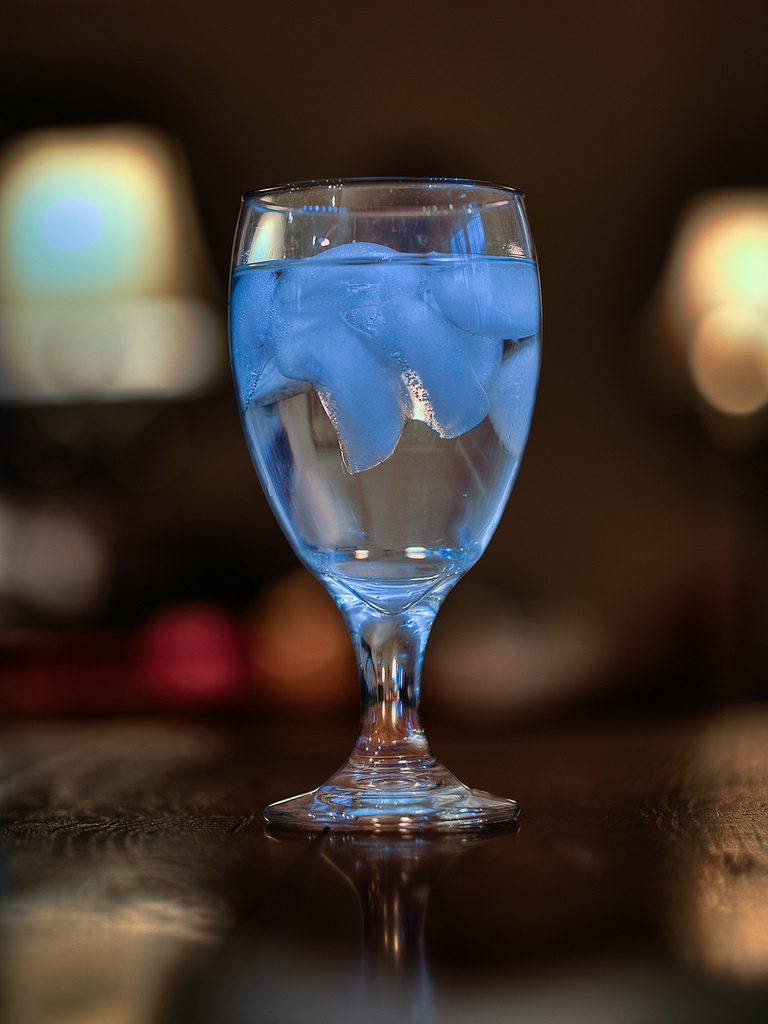glass of water: (209, 170, 573, 852)
